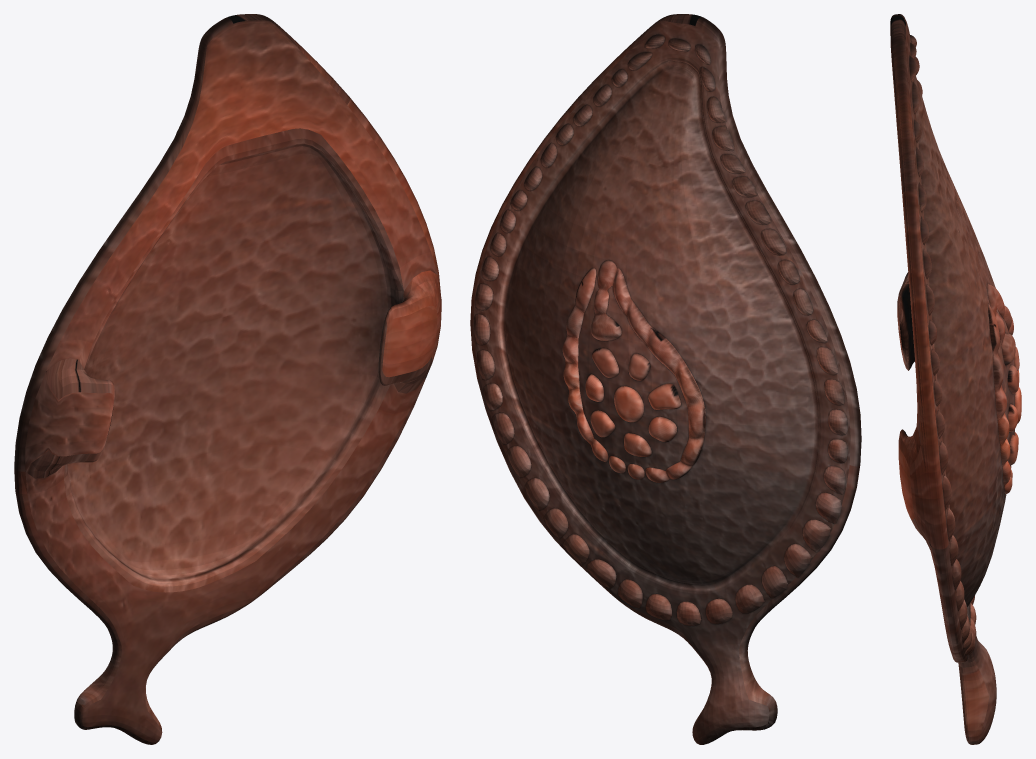
File: meda.obj
3 views of the same model, side by side, from view 1: azimuth 30°, elevation 25°; view 2: azimuth 150°, elevation 25°; view 3: azimuth 270°, elevation 25° (orthographic). The views are drawn at different scales.
Parts seen in each view (by area): view 1: medallion; view 2: medallion; view 3: medallion.
Part boxes in pixels (x1,y1,x2,y2): medallion: (14,14,441,744); medallion: (470,14,861,744); medallion: (890,14,1021,744).
Bounding box in the file's own units: 0.818 × 1.39 × 0.2209.
Materials: 1 (1 with a texture image).
